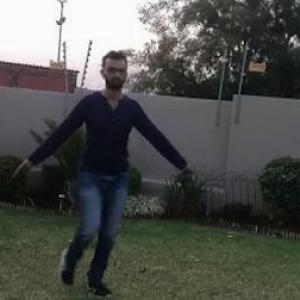land: (25, 68, 165, 261)
